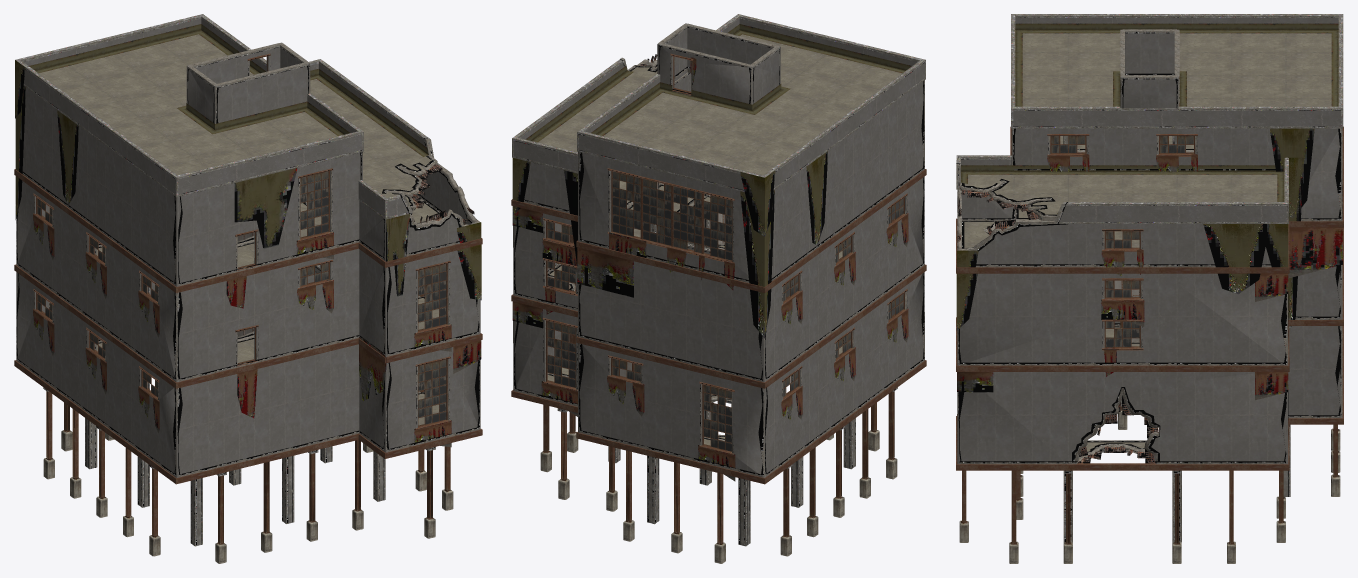
File: industrial_bld_a.glb
The picture shows the model from 3 angles, left to right: view 1: azimuth 30°, elevation 25°; view 2: azimuth 150°, elevation 25°; view 3: azimuth 270°, elevation 25°; orthographic projection. The views are drawn at different scales.
Parts seen in each view (by area): view 1: industrial_bld_a_LOD0, industrial_bld_a_int_LOD0; view 2: industrial_bld_a_LOD0, industrial_bld_a_int_LOD0; view 3: industrial_bld_a_LOD0, industrial_bld_a_int_LOD0.
Boxes of the visible parts, box(x1,y1,x2,y2) form: industrial_bld_a_LOD0: box(14, 14, 482, 484); industrial_bld_a_int_LOD0: box(43, 179, 453, 563); industrial_bld_a_LOD0: box(511, 14, 926, 484); industrial_bld_a_int_LOD0: box(540, 181, 897, 563); industrial_bld_a_LOD0: box(956, 14, 1343, 470); industrial_bld_a_int_LOD0: box(959, 136, 1340, 563).
Bounding box in the file's own units: 18.4 × 26.88 × 21.45.
Materials: 9 (9 with a texture image).
